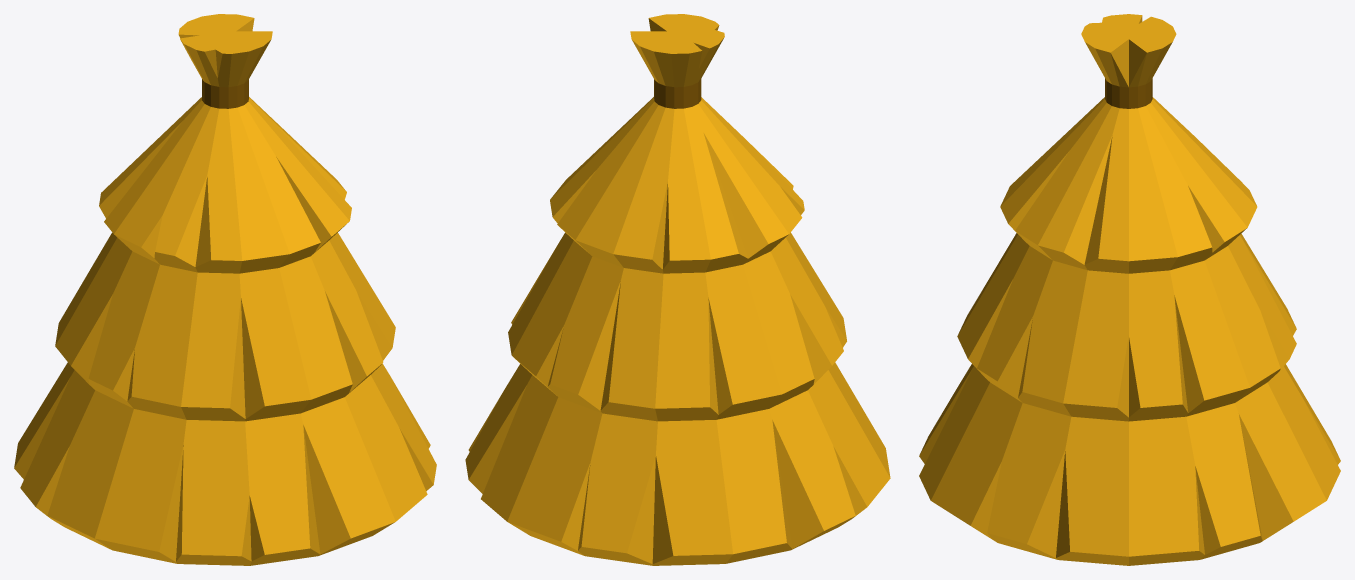
The model's file is StackedStraw.fbx.
The picture shows the model from 3 angles, left to right: view 1: azimuth 30°, elevation 25°; view 2: azimuth 150°, elevation 25°; view 3: azimuth 270°, elevation 25°; orthographic projection.
Parts seen in each view (by area): view 1: StackedStraw_01; view 2: StackedStraw_01; view 3: StackedStraw_01.
Part boxes in pixels (left/top/right/bottom): StackedStraw_01: left=14, top=14, right=436, bottom=565; StackedStraw_01: left=465, top=14, right=890, bottom=565; StackedStraw_01: left=919, top=14, right=1340, bottom=565.
Size of the model in its own units: 28.64 by 33.6 by 28.33.
1 material, 1 textured.
